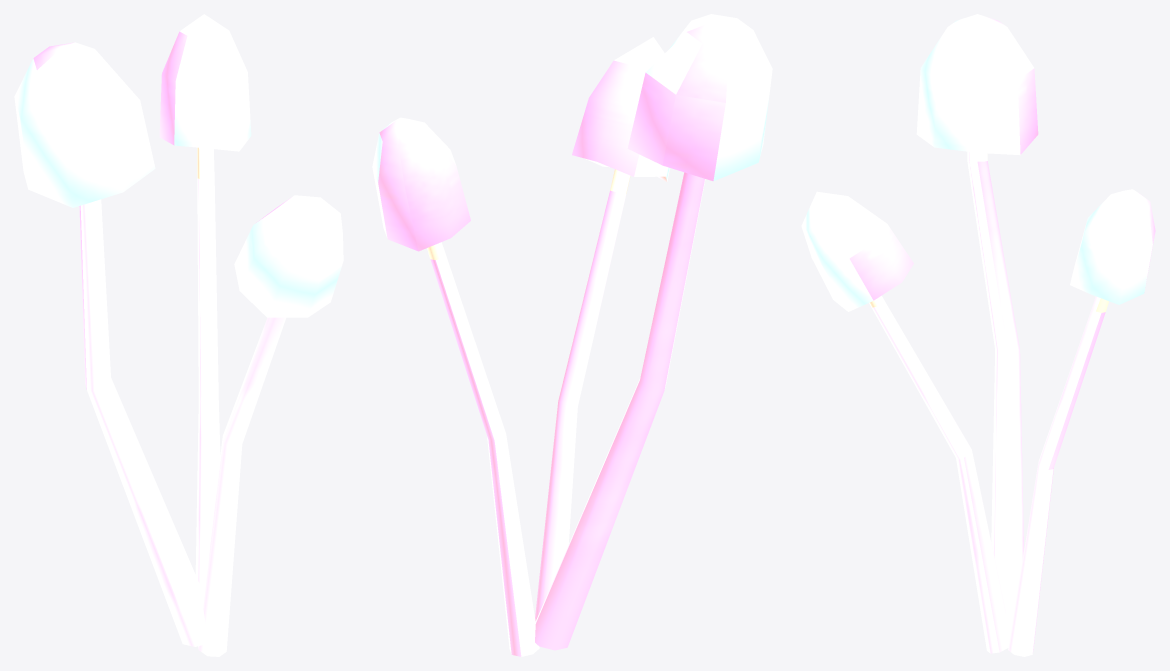
File: grande_seta10.fbx
The picture shows the model from 3 angles, left to right: view 1: azimuth 30°, elevation 25°; view 2: azimuth 150°, elevation 25°; view 3: azimuth 270°, elevation 25°; orthographic projection. The views are drawn at different scales.
Visible parts, largest first — view 1: SetaXL_10; view 2: SetaXL_10; view 3: SetaXL_10.
Part boxes in pixels (<box>): SetaXL_10: <box>14,14,343,656</box>; SetaXL_10: <box>372,14,772,656</box>; SetaXL_10: <box>801,14,1155,656</box>.
Bounding box in the file's own units: 4021 × 8342 × 4710.
